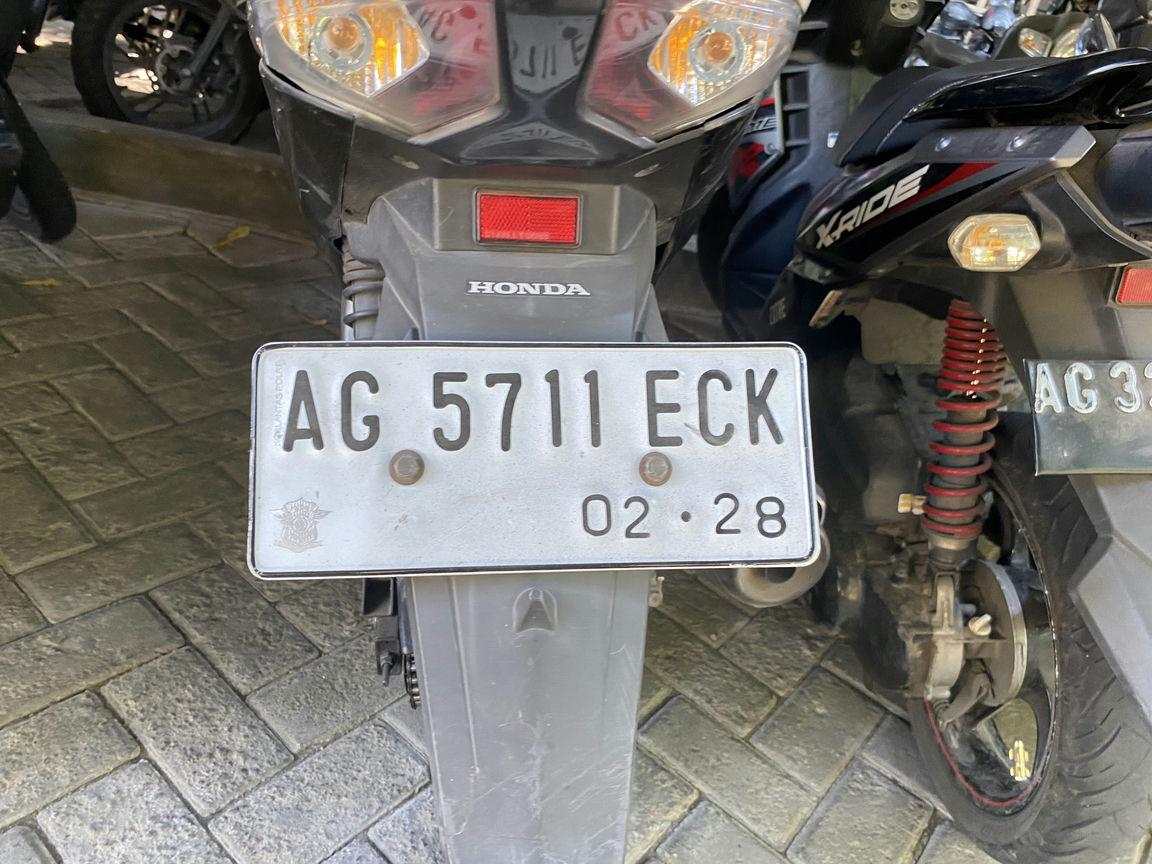plat: (250, 342, 819, 578)
